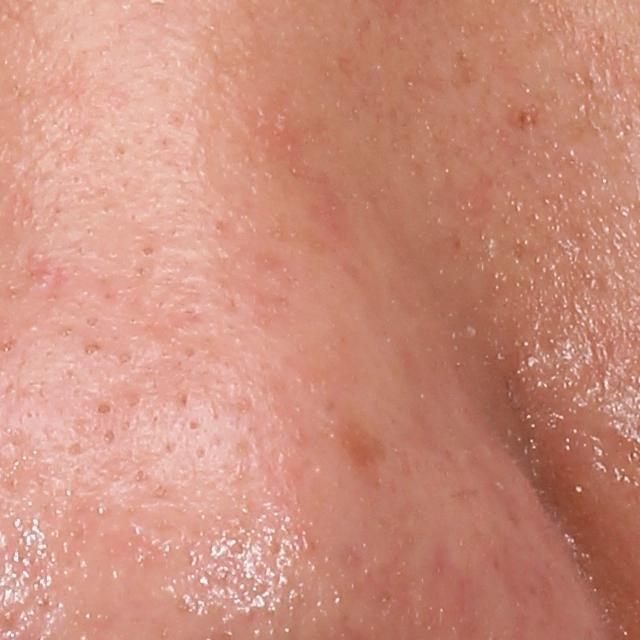comedo: (95, 398, 116, 419), (82, 340, 100, 356), (140, 244, 157, 258)
melasma: (323, 401, 397, 482)
